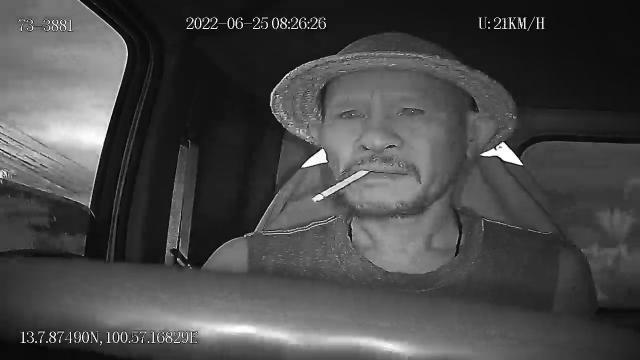SafeDriving: (389, 97, 431, 123), (330, 100, 369, 126)
Smoking: (314, 168, 372, 204)
